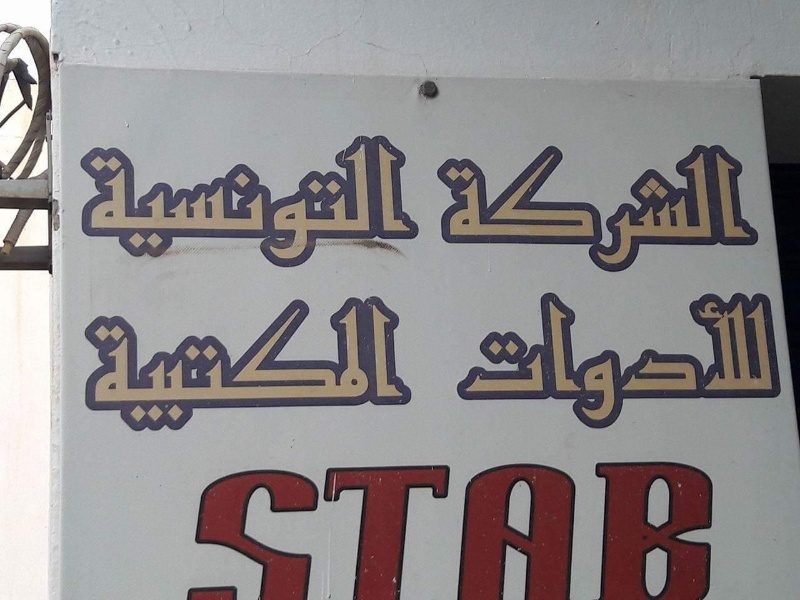text: (449, 282, 464, 437), (465, 282, 480, 437), (481, 282, 496, 437), (497, 282, 512, 437), (513, 282, 528, 437), (529, 282, 544, 437), (545, 282, 560, 437), (561, 282, 576, 437), (577, 282, 592, 437), (593, 282, 608, 437), (609, 282, 624, 437), (625, 282, 640, 437), (641, 282, 656, 437), (657, 282, 672, 437), (673, 282, 688, 437), (689, 282, 704, 437), (705, 282, 720, 437), (721, 282, 736, 437), (737, 282, 752, 437), (753, 282, 768, 437), (769, 282, 784, 437), (97, 292, 112, 439), (113, 292, 128, 439), (129, 292, 144, 439), (145, 292, 160, 439), (161, 292, 176, 439), (177, 292, 192, 439), (193, 292, 208, 439), (209, 292, 224, 439), (225, 292, 240, 439), (241, 292, 256, 439), (257, 292, 272, 439), (273, 292, 288, 439), (289, 292, 304, 439), (305, 292, 320, 439), (321, 292, 336, 439), (337, 292, 352, 439), (353, 292, 368, 439), (369, 292, 384, 439), (385, 292, 400, 439), (401, 292, 416, 439), (193, 452, 208, 598), (209, 452, 224, 598), (225, 452, 240, 598), (241, 452, 256, 598), (257, 452, 272, 598), (273, 452, 288, 598), (289, 452, 304, 598), (305, 452, 320, 598), (321, 452, 336, 598), (337, 452, 352, 598), (353, 452, 368, 598), (369, 452, 384, 598), (385, 452, 400, 598), (401, 452, 416, 598), (417, 452, 432, 598), (433, 452, 448, 598), (449, 452, 464, 598), (465, 452, 480, 598), (481, 452, 496, 598), (497, 452, 512, 598), (513, 452, 528, 598), (529, 452, 544, 598), (545, 452, 560, 598), (561, 452, 576, 598), (577, 452, 592, 598), (593, 452, 608, 598), (609, 452, 624, 598), (625, 452, 640, 598), (641, 452, 656, 598), (657, 452, 672, 598), (673, 452, 688, 598), (689, 452, 704, 598), (705, 452, 720, 598), (81, 128, 96, 270), (97, 128, 112, 270), (113, 128, 128, 270), (129, 128, 144, 270), (145, 128, 160, 270), (161, 128, 176, 270), (177, 128, 192, 270), (193, 128, 208, 270), (209, 128, 224, 270), (225, 128, 240, 270), (241, 128, 256, 270), (257, 128, 272, 270), (273, 128, 288, 270), (289, 128, 304, 270), (305, 128, 320, 270), (321, 128, 336, 270), (337, 128, 352, 270), (353, 128, 368, 270), (369, 128, 384, 270), (385, 128, 400, 270), (401, 128, 416, 270), (449, 144, 464, 276), (465, 144, 480, 276), (481, 144, 496, 276), (497, 144, 512, 276), (513, 144, 528, 276), (529, 144, 544, 276), (545, 144, 560, 276), (561, 144, 576, 276), (577, 144, 592, 276), (593, 144, 608, 276), (609, 144, 624, 276), (625, 144, 640, 276), (641, 144, 656, 276), (657, 144, 672, 276), (673, 144, 688, 276), (689, 144, 704, 276), (705, 144, 720, 276), (721, 144, 736, 276), (737, 144, 752, 276), (85, 292, 96, 439), (436, 144, 448, 276), (753, 144, 762, 276), (443, 282, 448, 437), (417, 128, 421, 270), (785, 282, 788, 437), (721, 452, 724, 598), (79, 128, 80, 270)
